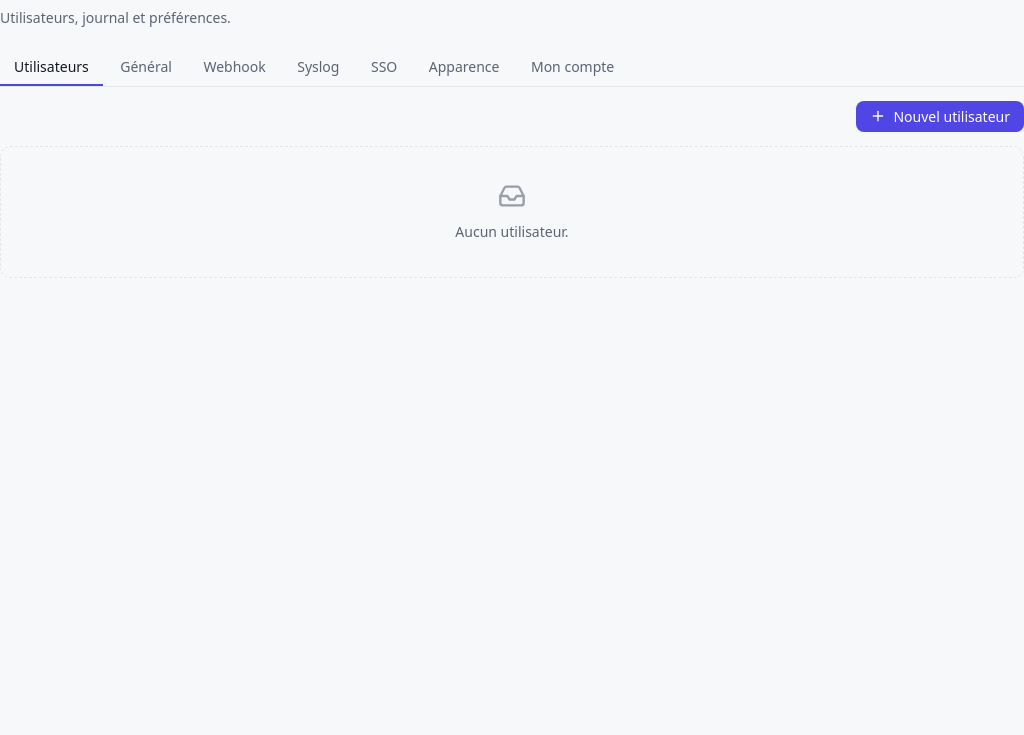
Test: réglages › vérifie l'intégrité et signale une altération
Click the tab "Général". click: (146, 67)
box: [106,48,186,86]
(page scrolled)
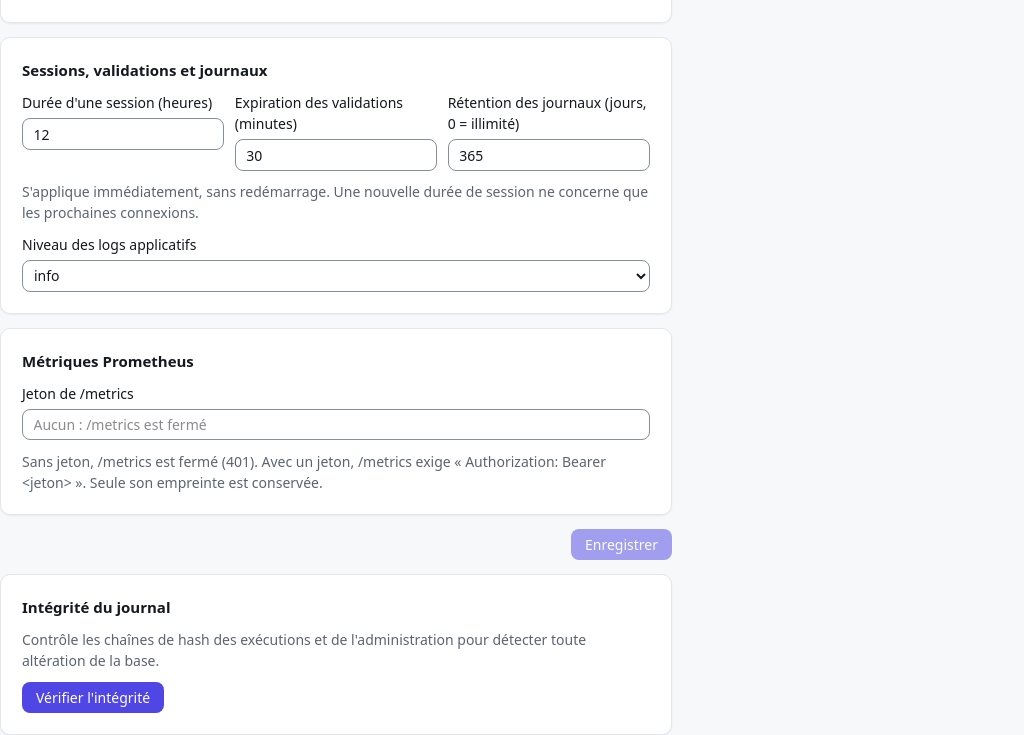
Click the button "Vérifier l'intégrité". click: (93, 698)
box: [22,682,164,713]
(page scrolled)
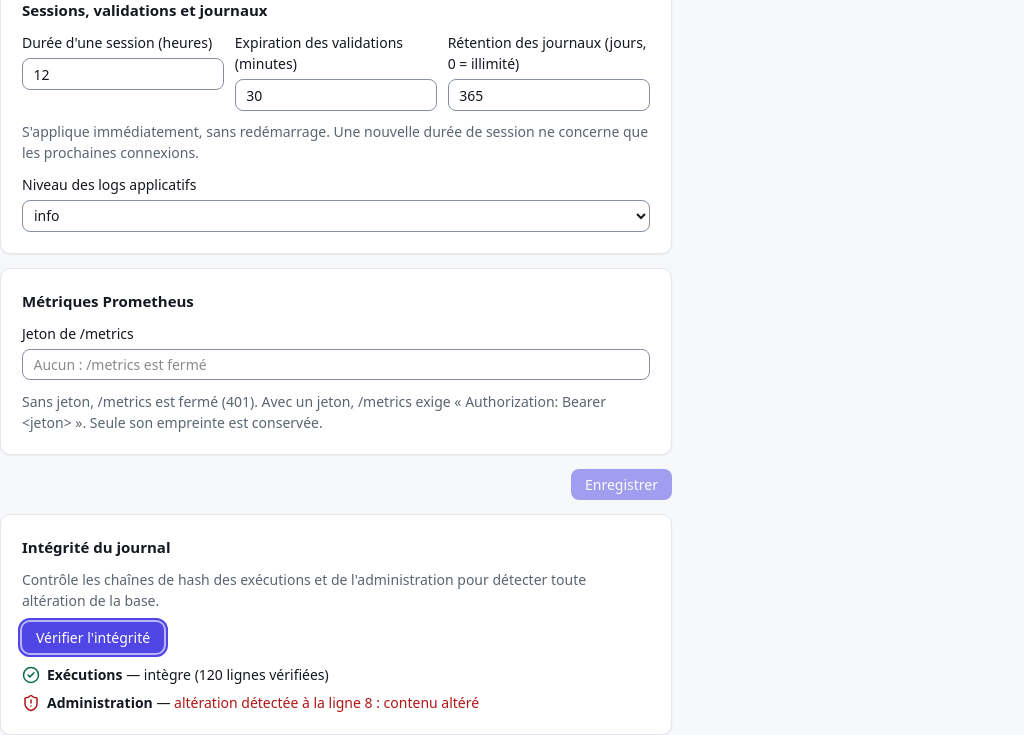
Now the text "Exécutions — intègre (120 lignes vérifiées)" is shown, box [47,664,329,685]
Now the message reads "altération détectée à la ligne 8 : contenu altéré", box [174,693,479,712]
